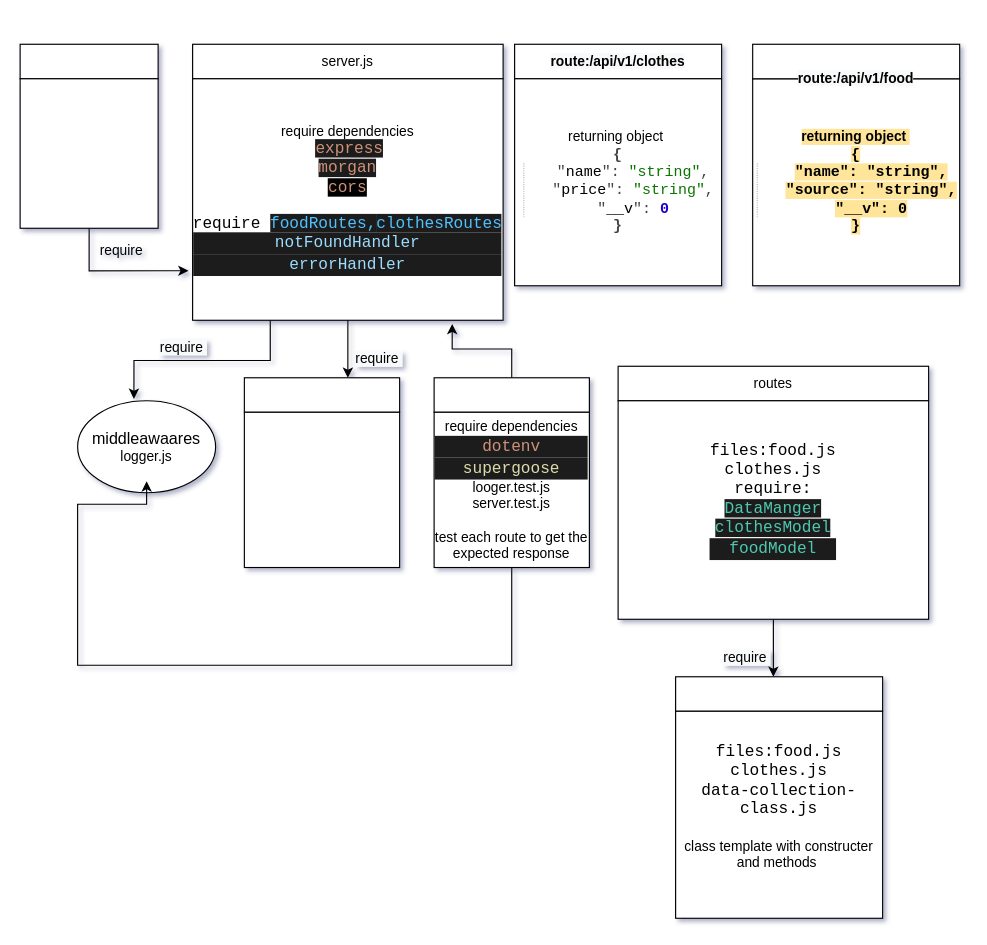
Image size: 987x945. Some labels were removed from this diagram. Here are the shapes that lost their labels. From the top down, the centre of each, then its label:
At point (88, 61): "index.js".
At point (88, 153): "require dependencies dotenv , mongoose identify the port and listen to the port".
At point (321, 394): "error handlers".
At point (511, 394): "--tests--".
At point (321, 489): "404.js 500 js".
At point (778, 693): "models".
